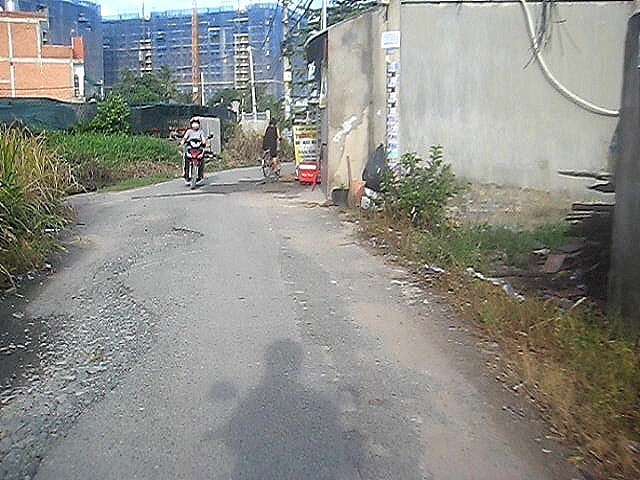hole: (1, 268, 157, 480), (66, 223, 206, 267)
